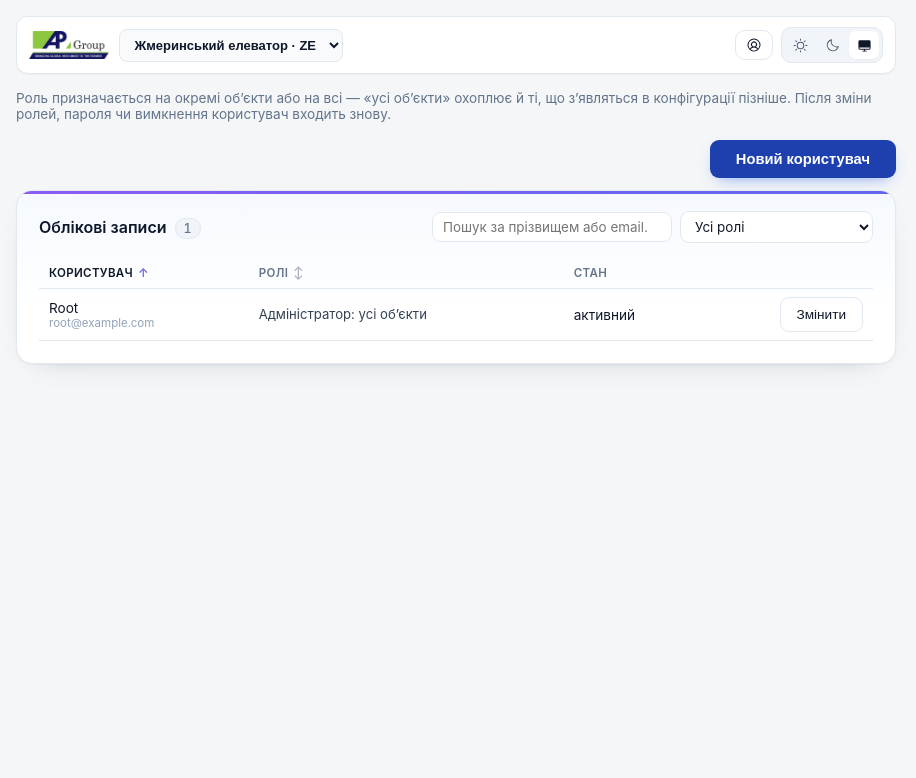
Test case: UsersPage › offers no deletion of your own account
The image size is (916, 778).
Click the button "Змінити" at (821, 314), box [780,297,863,332]
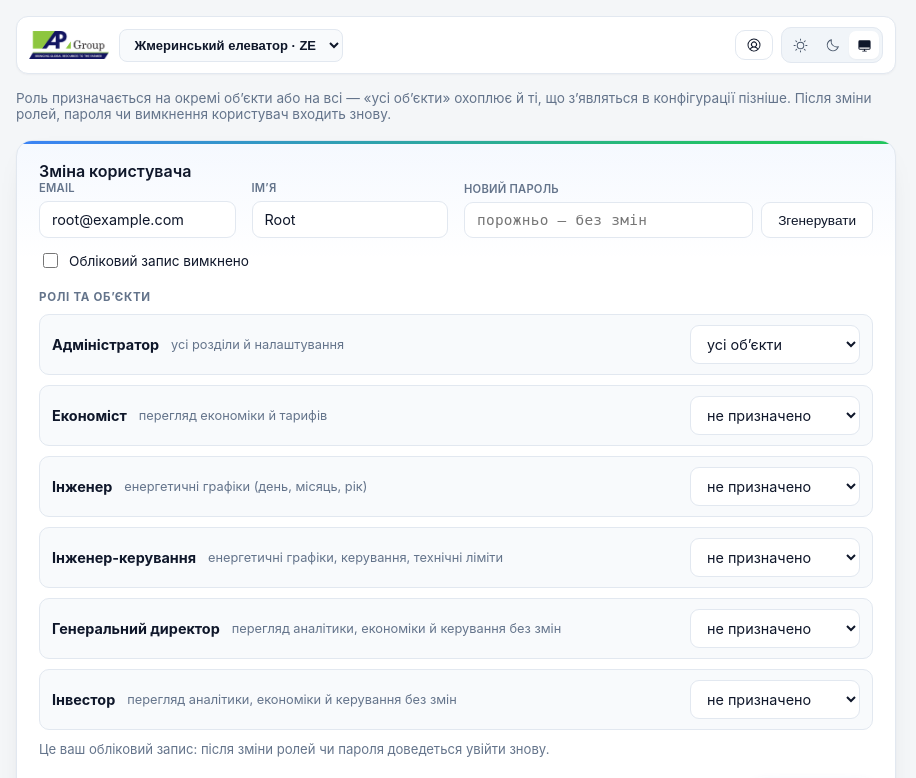
Now the text "Це ваш обліковий запис" is shown, box [39,741,549,757]
